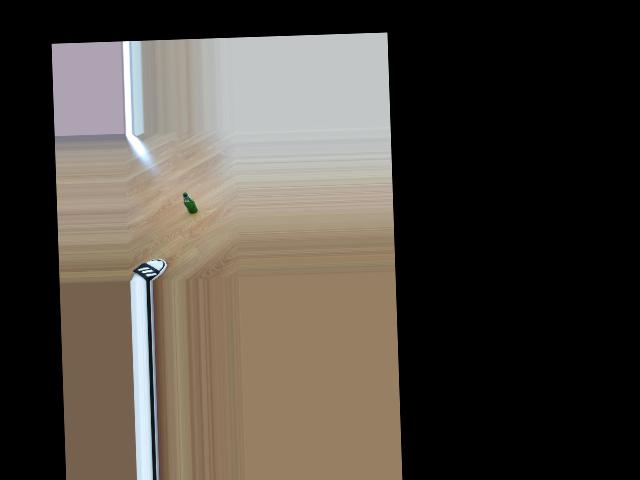beer: (182, 192, 197, 213)
